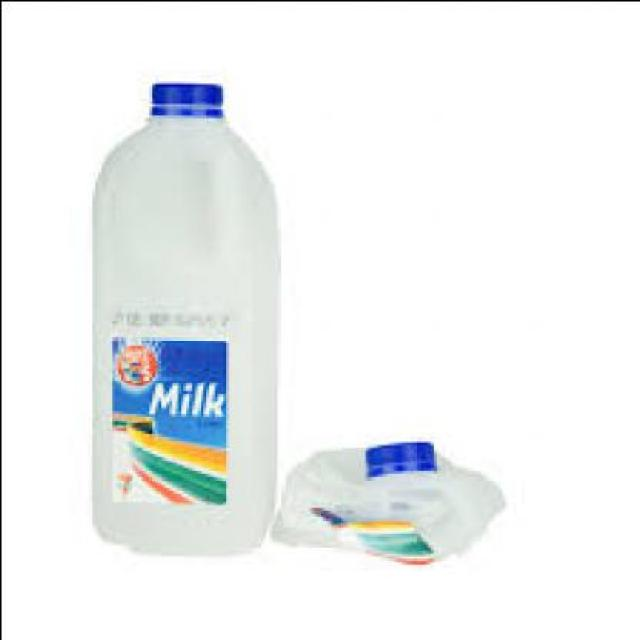PLASTIC: (87, 79, 270, 552), (270, 438, 504, 564), (146, 77, 220, 120), (362, 438, 432, 474)
